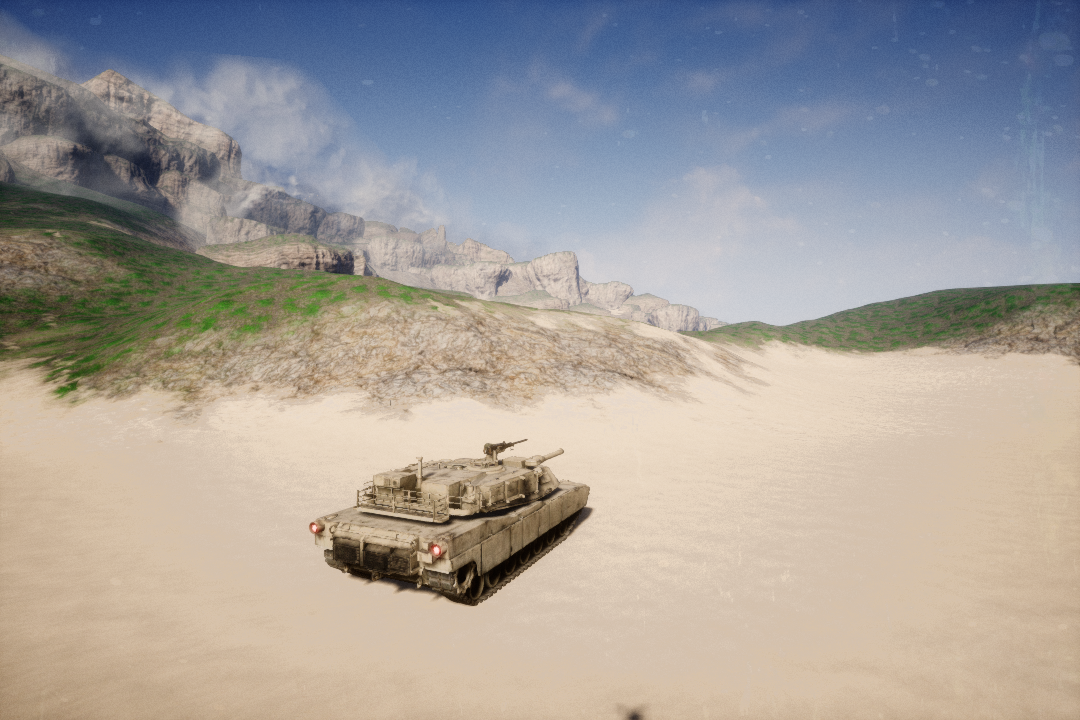tank: (299, 432, 601, 613)
